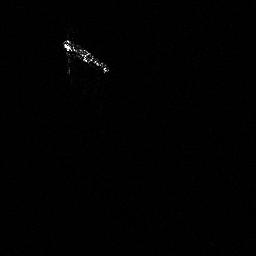ship: (62, 38, 111, 75)
